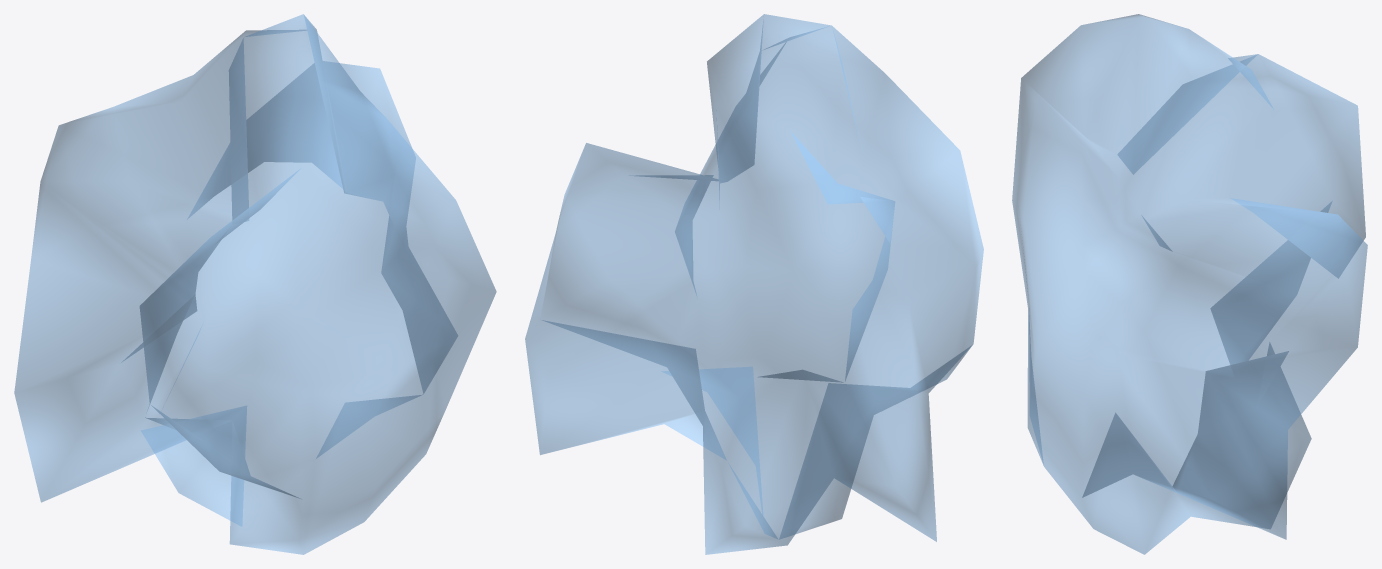
File: mdissection_shield.gltf
The picture shows the model from 3 angles, left to right: view 1: azimuth 30°, elevation 25°; view 2: azimuth 150°, elevation 25°; view 3: azimuth 270°, elevation 25°; orthographic projection. The views are drawn at different scales.
Visible parts, largest first — view 1: mdissection.shield; view 2: mdissection.shield; view 3: mdissection.shield.
Boxes of the visible parts, <box> form: mdissection.shield: <box>14,14,496,554</box>; mdissection.shield: <box>525,14,983,554</box>; mdissection.shield: <box>1012,14,1367,554</box>.
Bounding box in the file's own units: 24.91 × 31.37 × 18.82.
